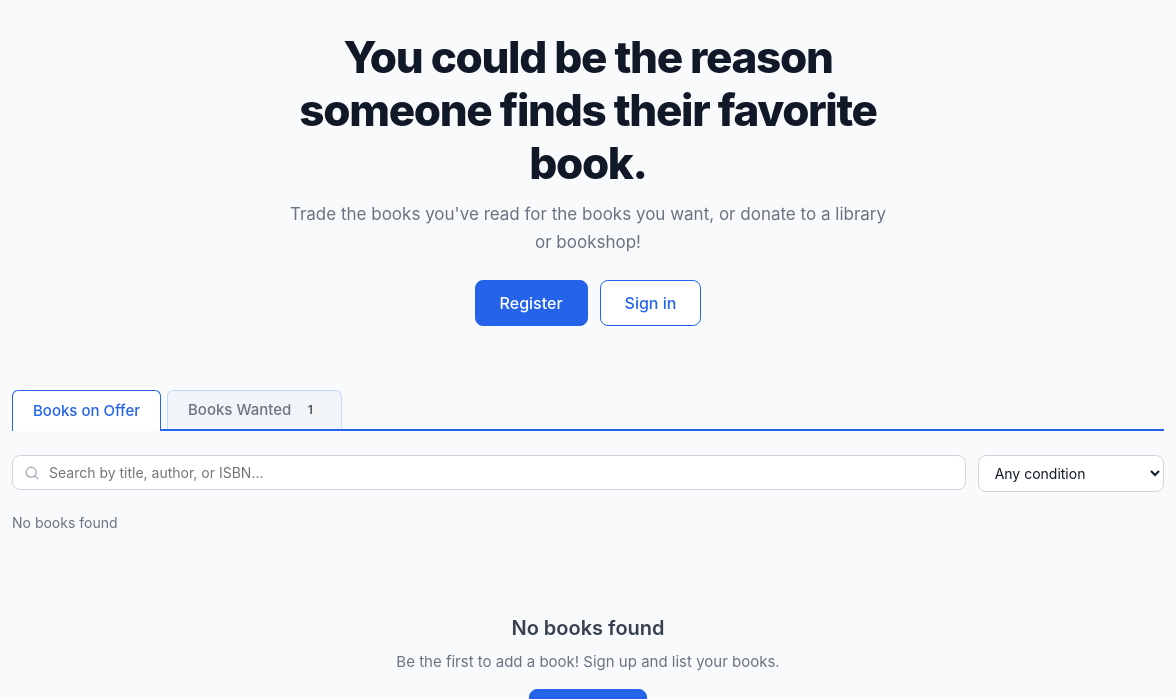
Test case: Home page › switches to wanted tab and shows wanted books
What coordinates should you click on to do the following:
click the tab "Books Wanted 1"
I would click on:
 (255, 409)
Its box is left=167, top=390, right=342, bottom=429.
(page scrolled)
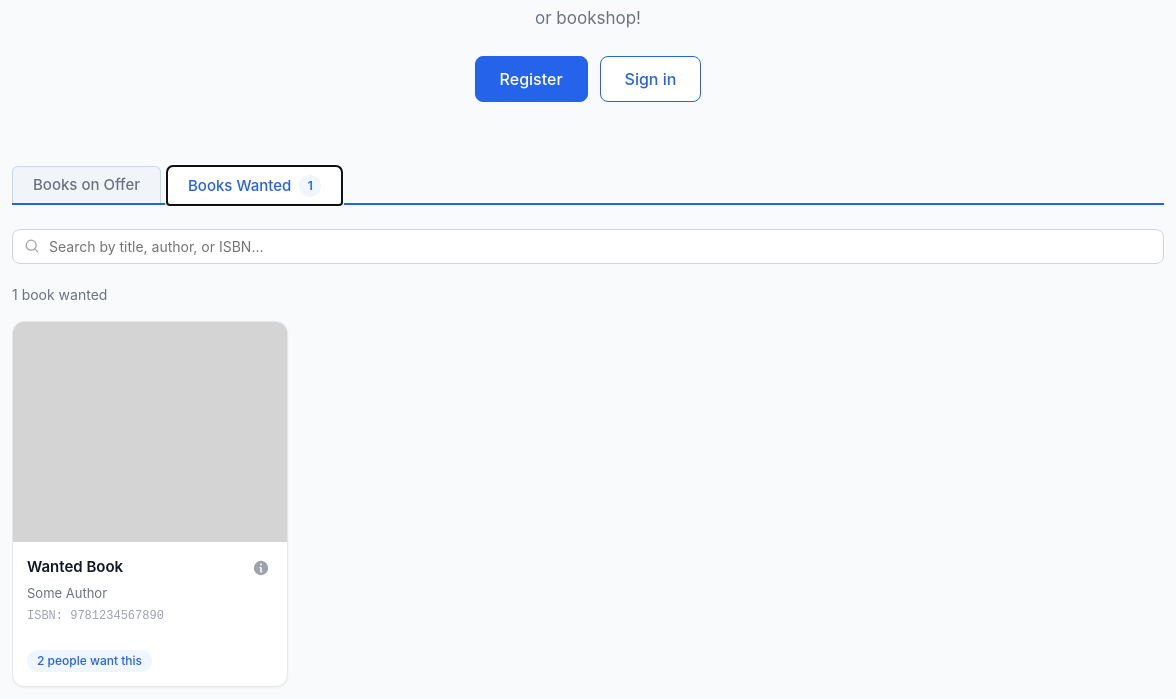
Result: the heading "Wanted Book" is shown at left=27, top=556, right=123, bottom=577
Result: the text "2 people want this" is shown at left=27, top=650, right=152, bottom=672
